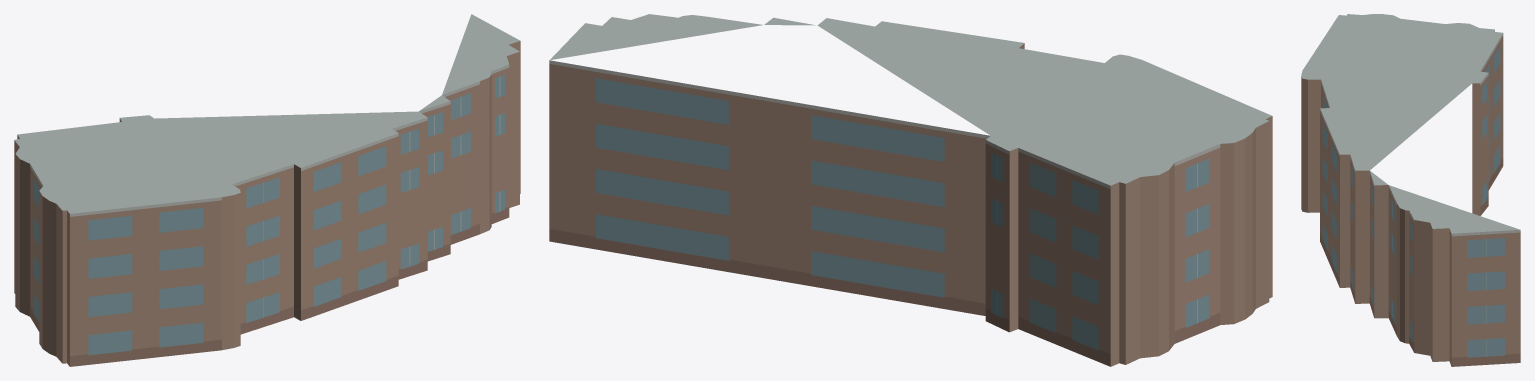
The model's file is survey-upis-32509105.glb.
3 renders of one model, left to right at view 1: azimuth 30°, elevation 25°; view 2: azimuth 150°, elevation 25°; view 3: azimuth 270°, elevation 25°, orthographic. The views are drawn at different scales.
Parts seen in each view (by area): view 1: survey-upis-32509105.tmp; view 2: survey-upis-32509105.tmp; view 3: survey-upis-32509105.tmp.
Boxes of the visible parts, x1=… form: survey-upis-32509105.tmp: x1=14, y1=14, x2=520, y2=366; survey-upis-32509105.tmp: x1=549, y1=14, x2=1272, y2=366; survey-upis-32509105.tmp: x1=1301, y1=14, x2=1520, y2=366.
Size of the model in its own units: 43.22 by 12.2 by 18.24.
